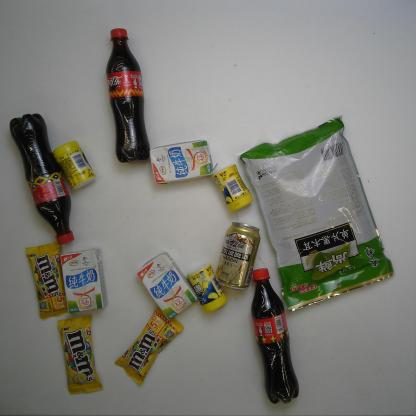Alcohol: (214, 221, 262, 292)
Chocolate: (113, 306, 186, 388), (55, 315, 104, 396), (24, 242, 70, 322)
Dried Food: (237, 113, 397, 314)
Drink: (5, 110, 80, 248), (244, 266, 303, 406), (105, 26, 154, 164)
Gum: (52, 139, 97, 191), (210, 162, 254, 215), (187, 264, 228, 314)
Milk: (136, 251, 200, 321), (148, 137, 220, 187), (58, 246, 109, 315)
